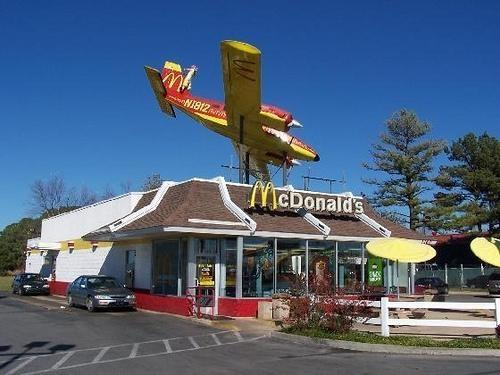car: (66, 275, 137, 307), (9, 274, 50, 296), (414, 276, 450, 295), (465, 274, 490, 289), (486, 272, 500, 294)
